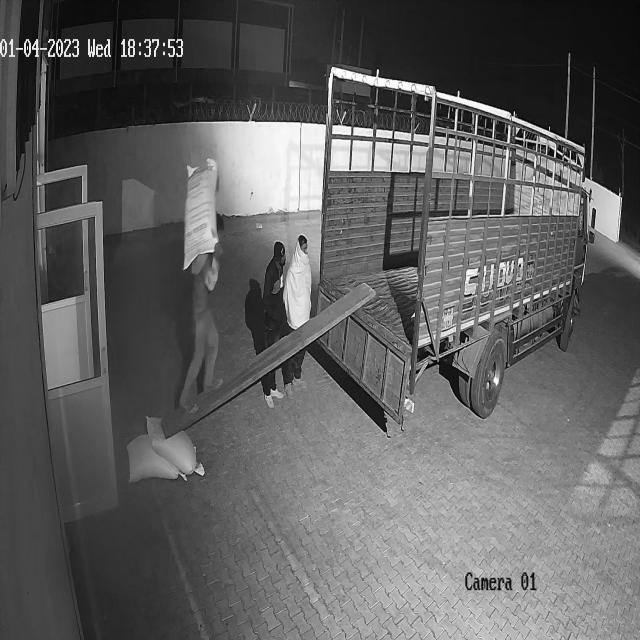sack: (181, 157, 218, 270), (146, 413, 203, 476), (126, 432, 187, 480)
